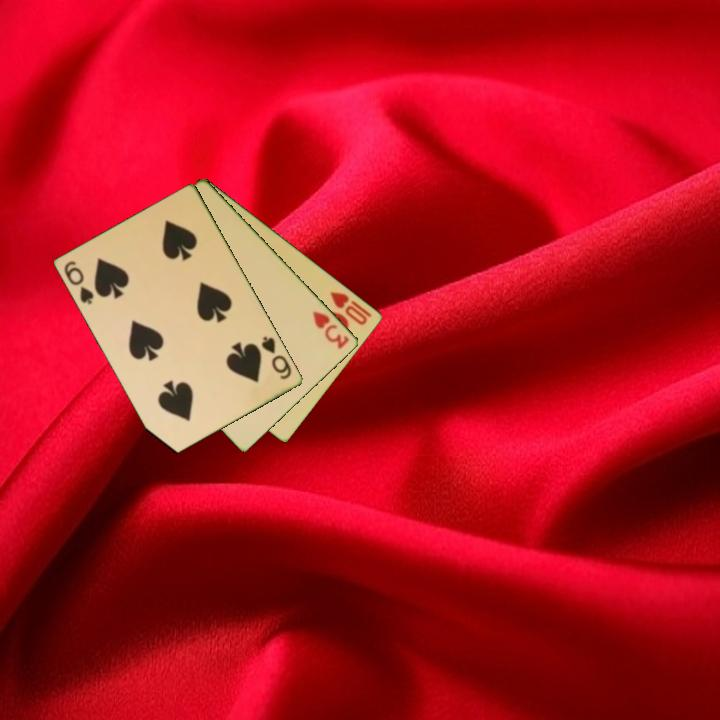10h: (327, 288, 375, 328)
3h: (309, 308, 353, 352)
6s: (258, 333, 295, 383), (61, 257, 97, 308)
